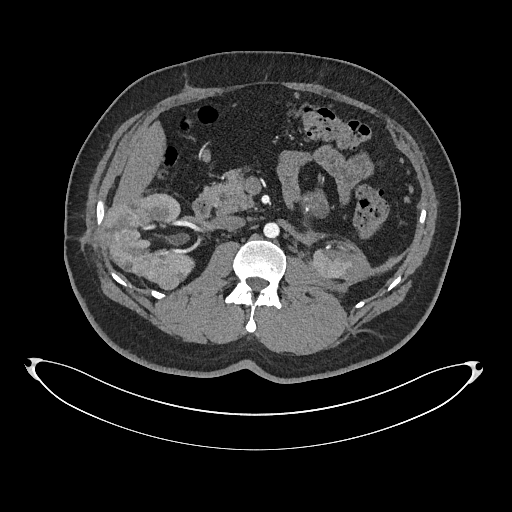Lesion: (156, 270, 182, 294)
